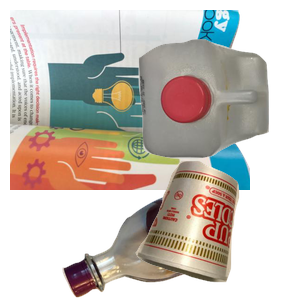glass: (60, 180, 300, 300)
paper: (10, 10, 250, 190)
plastic: (136, 37, 300, 188)
trash: (133, 158, 300, 300)
